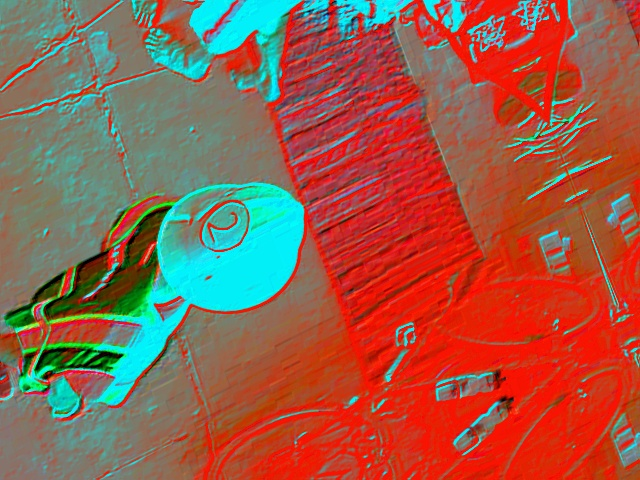two: (193, 194, 258, 260)
